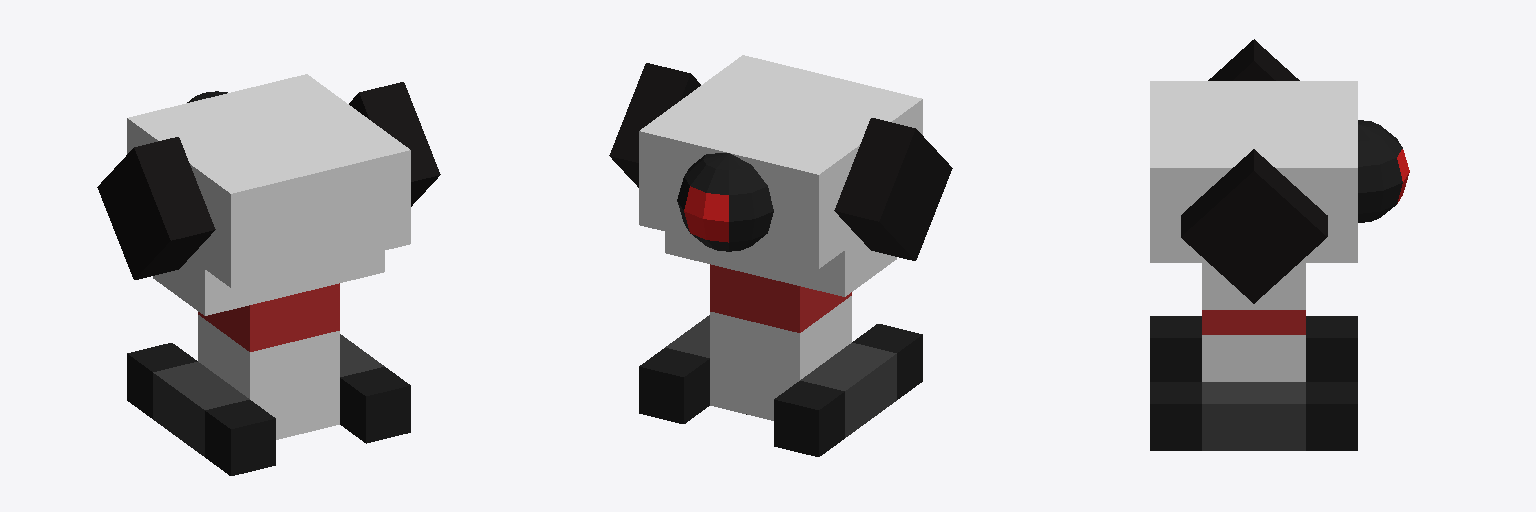
The picture shows the model from 3 angles: view 1: azimuth 30°, elevation 25°; view 2: azimuth 150°, elevation 25°; view 3: azimuth 270°, elevation 25°; orthographic projection.
Visible parts, largest first — view 1: cube; view 2: cube, sphere; view 3: cube, sphere.
Part boxes in pixels (x1,y1,x2,y2): cube: (97,74,440,475); cube: (609,55,952,456); sphere: (677,153,773,251); cube: (1150,39,1357,450); sphere: (1358,120,1409,222).
Bounding box in the file's own units: 0.375 × 0.4009 × 0.3125.
1 materials, 1 textured.